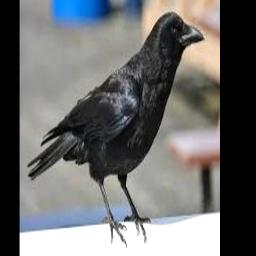Crow: (28, 10, 205, 243)
